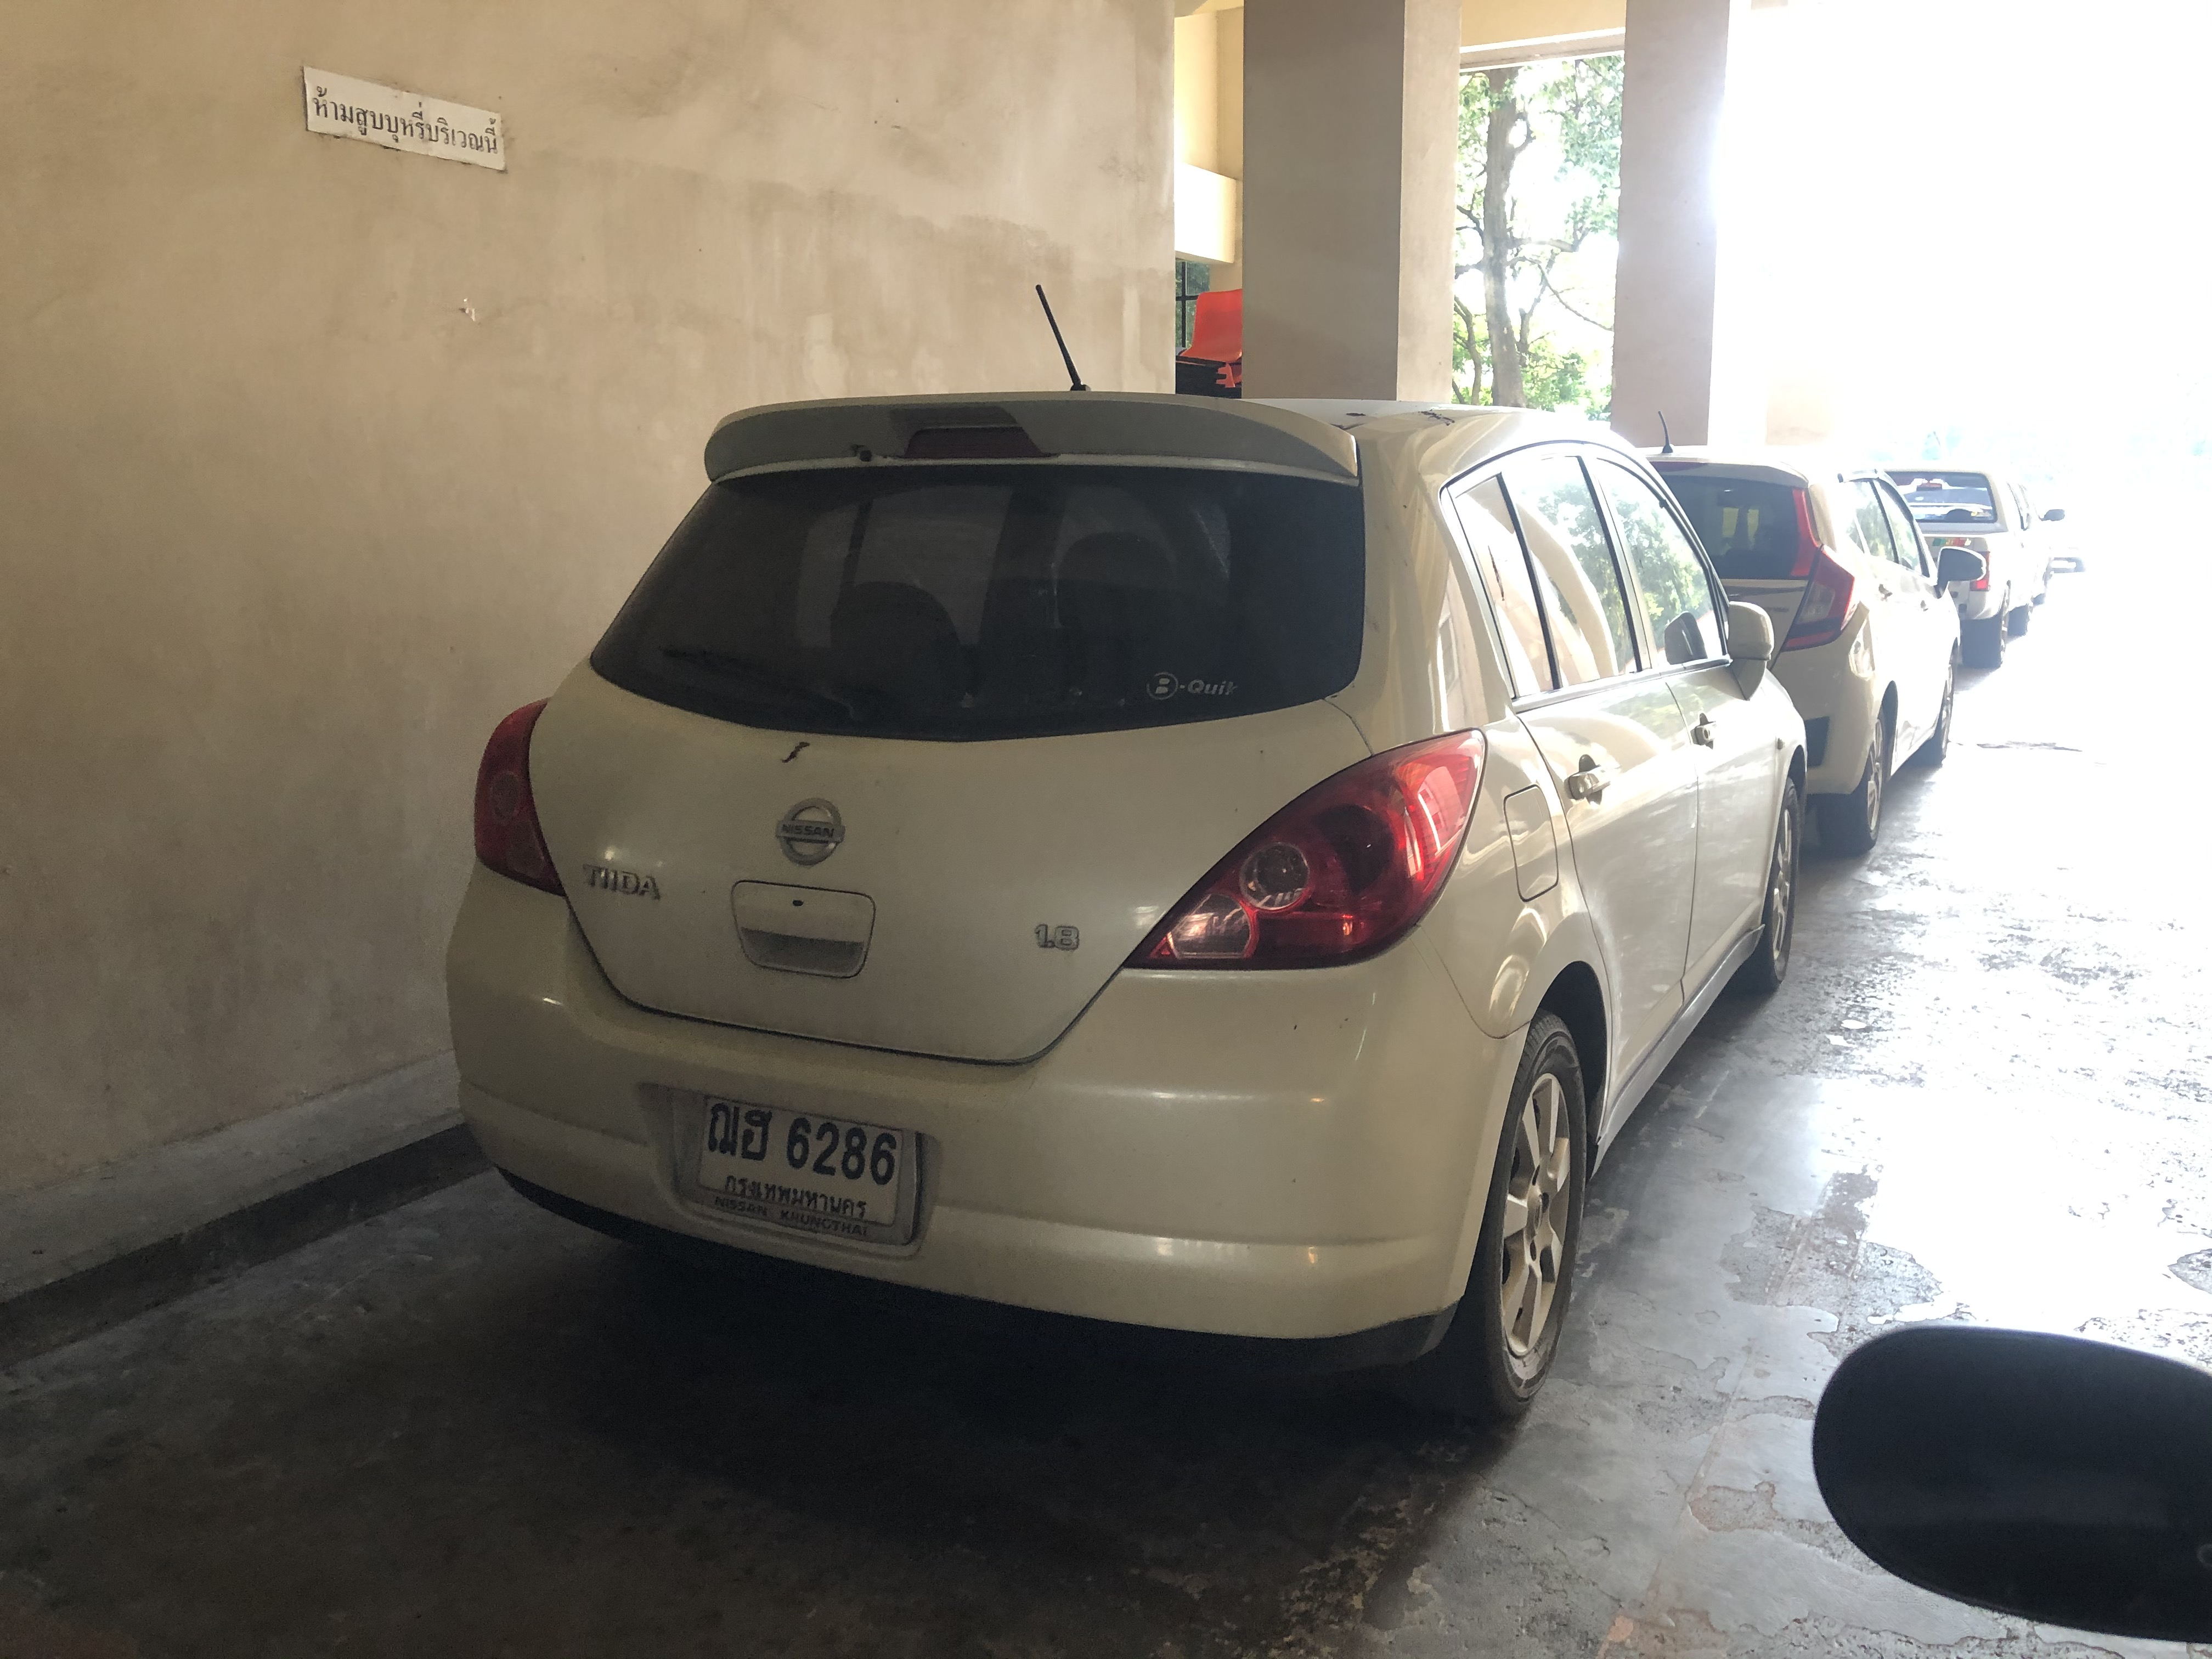in: (697, 1098, 895, 1232)
out: (669, 1082, 920, 1251)
